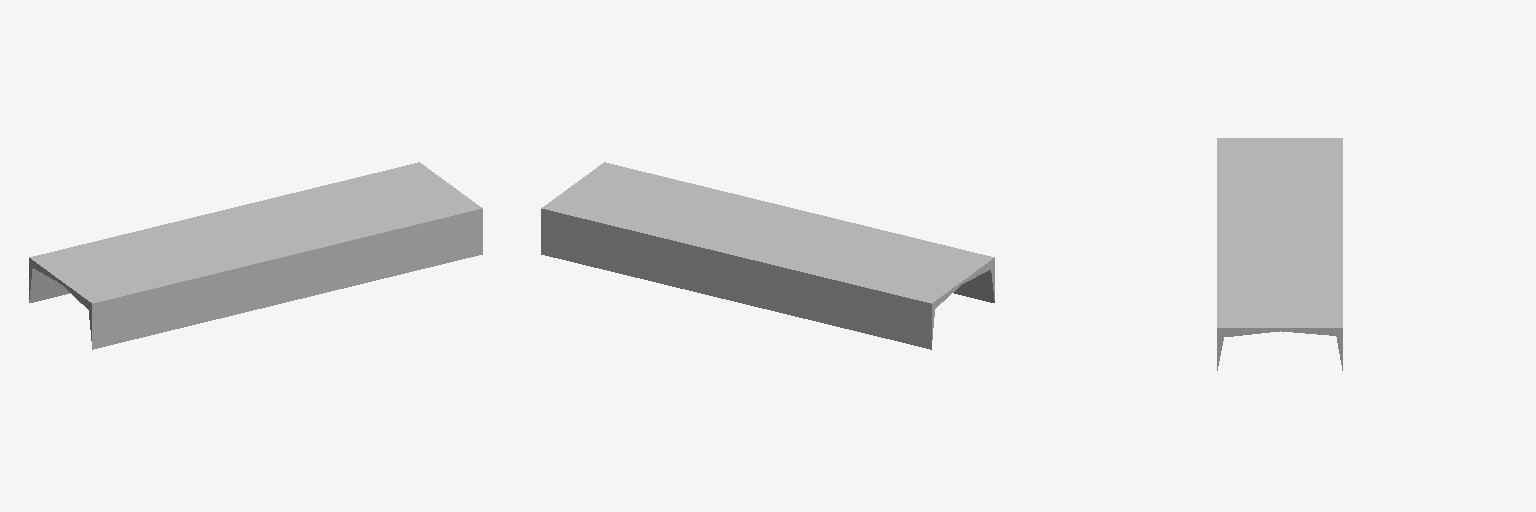
File: disp_tunnel.obj
3 views of the same model, side by side, from view 1: azimuth 30°, elevation 25°; view 2: azimuth 150°, elevation 25°; view 3: azimuth 270°, elevation 25° (orthographic).
Visible parts, largest first — view 1: Cube_Cube.006; view 2: Cube_Cube.006; view 3: Cube_Cube.006.
Part boxes in pixels (bbox=[...]): Cube_Cube.006: bbox=[29, 162, 482, 349]; Cube_Cube.006: bbox=[541, 162, 994, 349]; Cube_Cube.006: bbox=[1217, 138, 1342, 370].
Bounding box in the file's own units: 144 × 16.21 × 40.26.